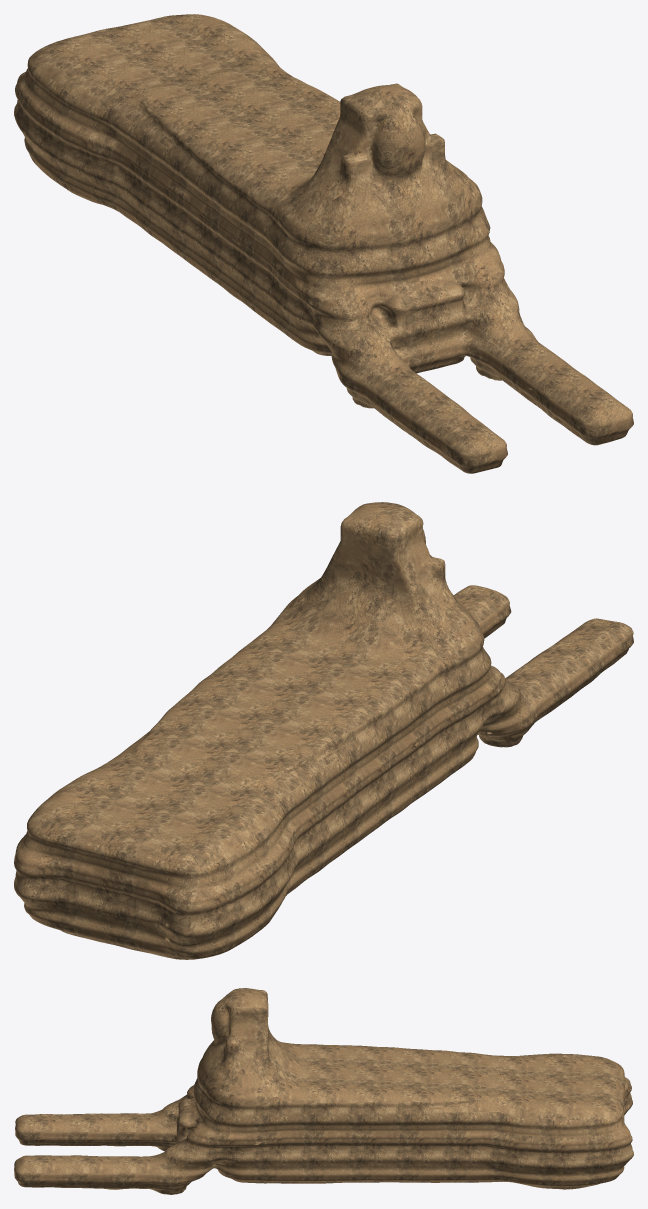
Rendered from giza_sphinx.glb.
3 renders of one model, top to bottom at view 1: azimuth 30°, elevation 25°; view 2: azimuth 150°, elevation 25°; view 3: azimuth 270°, elevation 25°, orthographic. The views are drawn at different scales.
Parts seen in each view (by area): view 1: Sphinx; view 2: Sphinx; view 3: Sphinx.
Part boxes in pixels (<box>): Sphinx: <box>14,14,633,473</box>; Sphinx: <box>14,502,633,959</box>; Sphinx: <box>14,988,633,1194</box>.
Size of the model in its own units: 18.57 by 20.3 by 65.49.
Materials: 1 (1 with a texture image).
